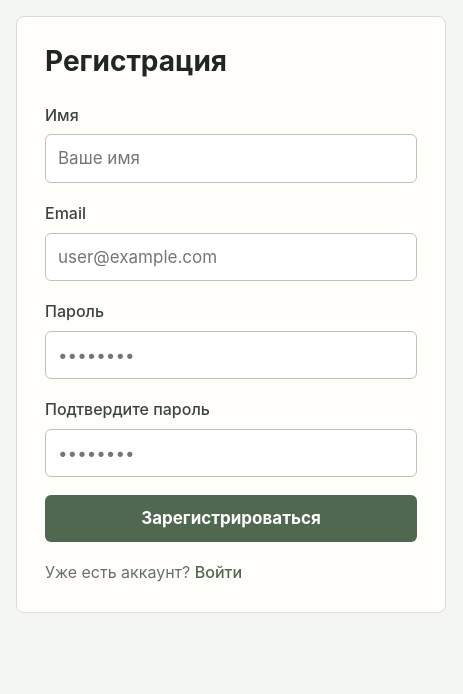
Register › stays on the form after rejected registration submit
The width and height of the screenshot is (463, 694).
Type "Student" into the field with placeholder "Ваше имя". click: (231, 159)
box: [45,134,417,183]
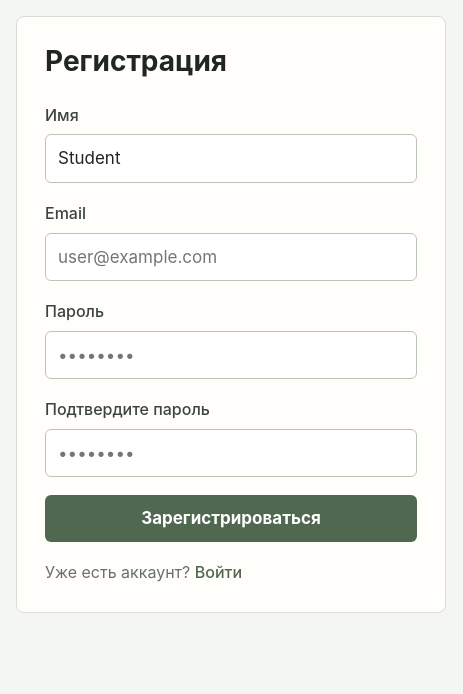
Type "student@test.ru" into the field with placeholder "user@example.com". click: (231, 257)
box: [45,232,417,281]
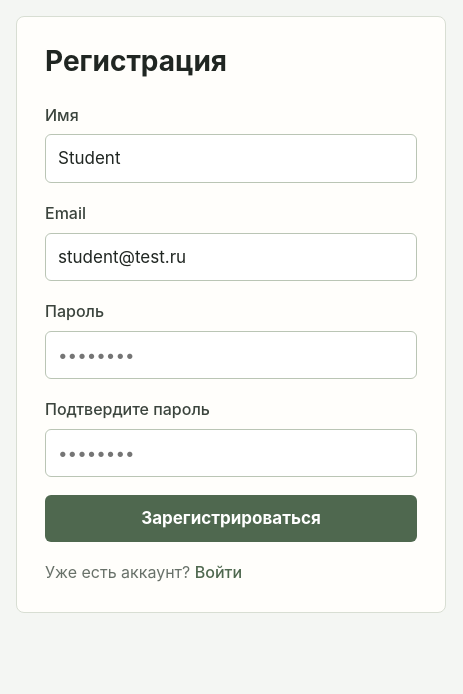
Type "123456" into the 1st password field with placeholder "••••••••". click: (231, 355)
box: [45,331,417,379]
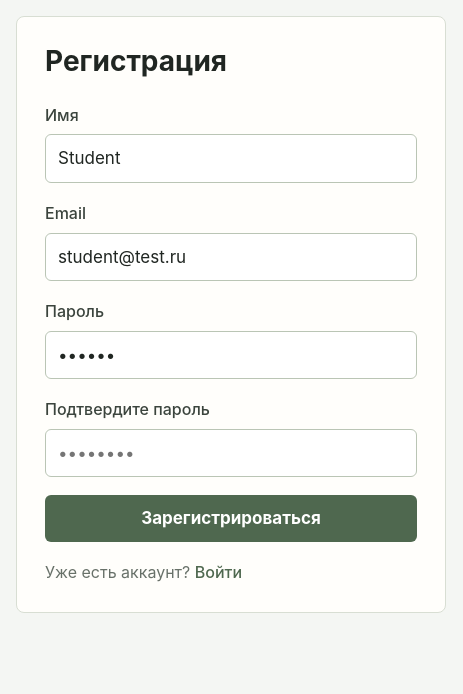
Type "123456" into the password field with placeholder "••••••••". click: (231, 453)
box: [45,429,417,477]
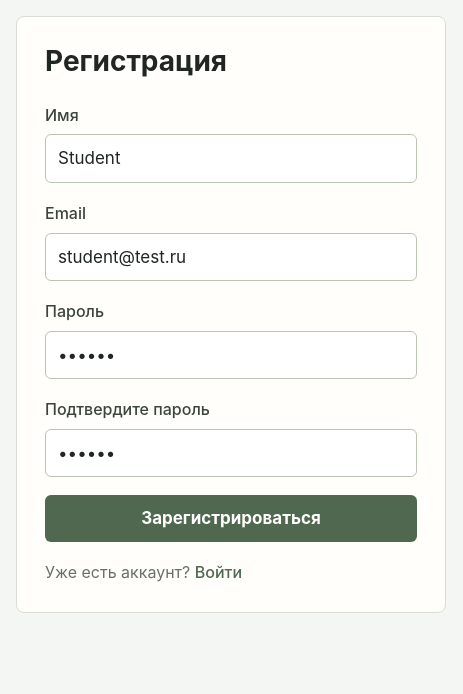
Submit the form "Зарегистрироваться"
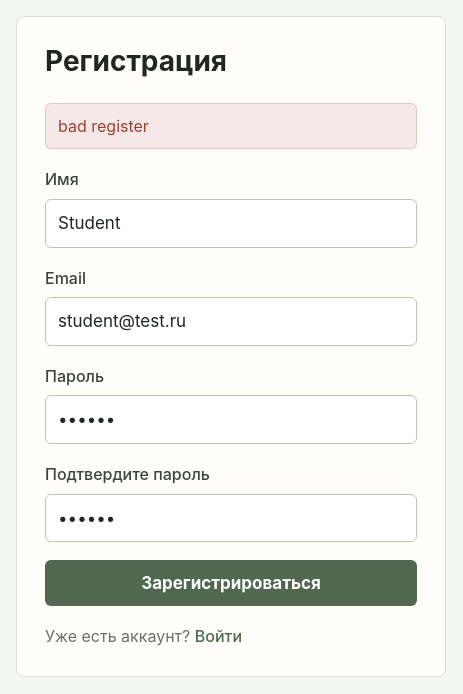
Expected: the text "bad register" is shown, [45,103,417,149]
